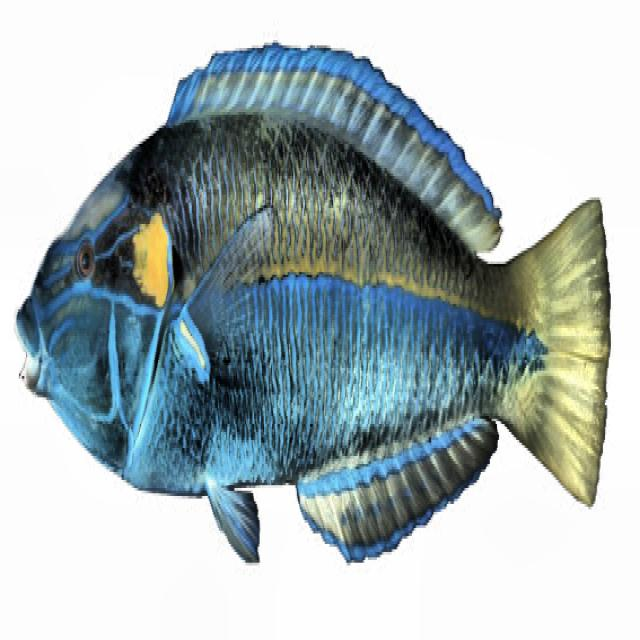fish: (14, 38, 609, 579)
